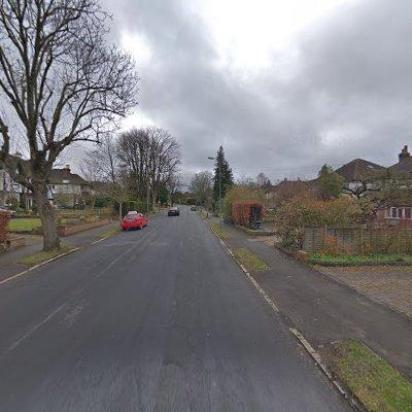moving-car: (168, 206, 180, 216)
stationary-car-onstreet: (120, 212, 148, 230)
